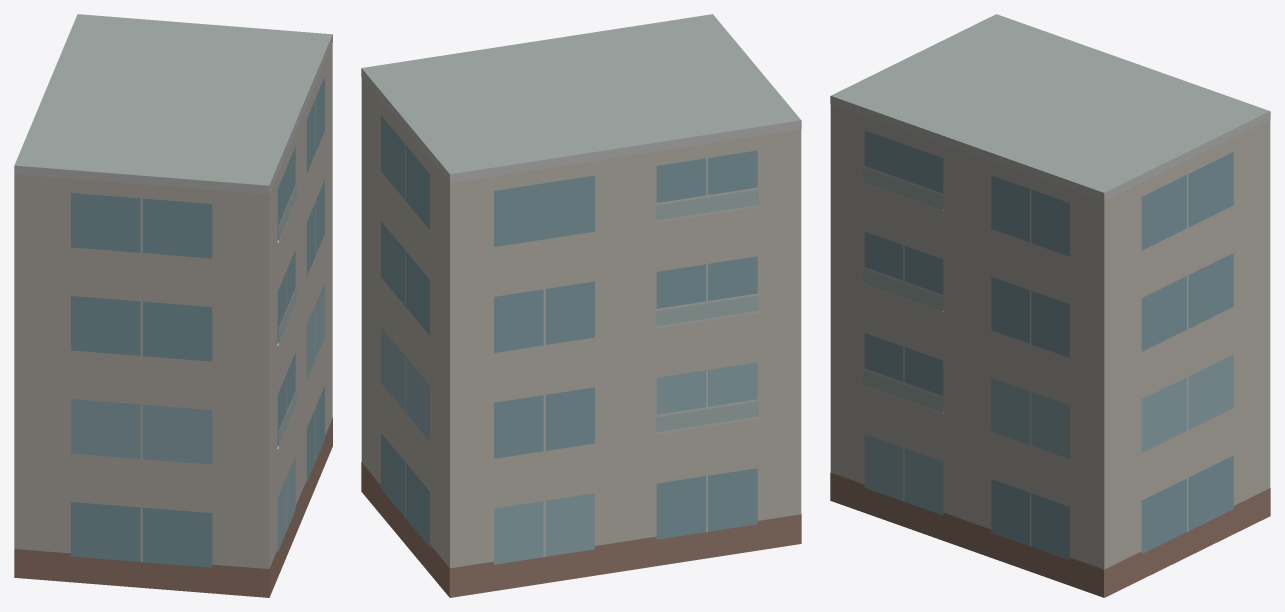
File: survey-upis-32623585.glb
The picture shows the model from 3 angles, left to right: view 1: azimuth 30°, elevation 25°; view 2: azimuth 150°, elevation 25°; view 3: azimuth 270°, elevation 25°; orthographic projection. The views are drawn at different scales.
Visible parts, largest first — view 1: survey-upis-32623585.tmp; view 2: survey-upis-32623585.tmp; view 3: survey-upis-32623585.tmp.
Boxes of the visible parts, x1,y1,x2,y2 form: survey-upis-32623585.tmp: (14, 14, 332, 597); survey-upis-32623585.tmp: (361, 14, 801, 597); survey-upis-32623585.tmp: (830, 14, 1270, 597).
Bounding box in the file's own units: 11.1 × 11.7 × 11.52.
